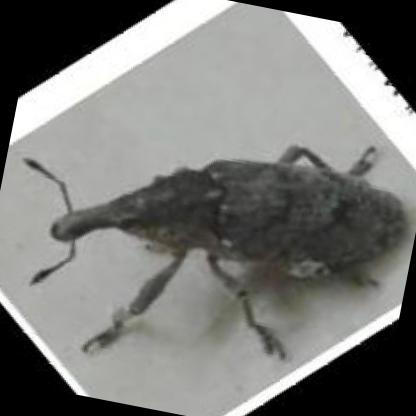ash weevil: (29, 142, 407, 358)
